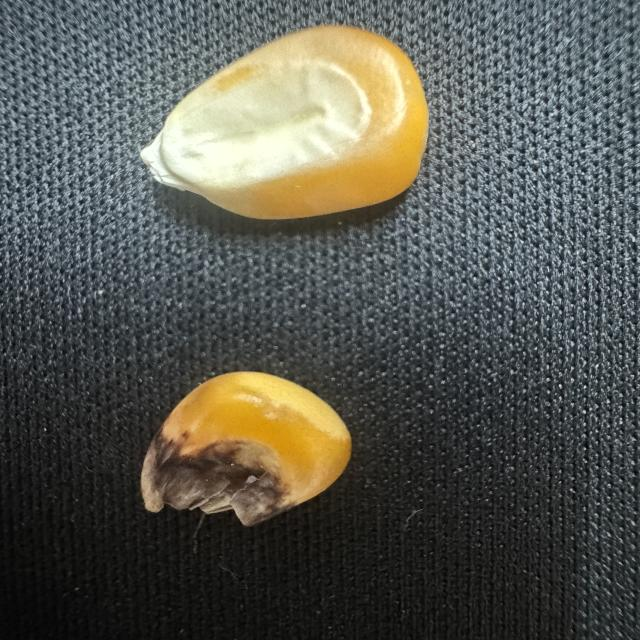Bad-Seed: (136, 367, 358, 538)
Good-Seed: (140, 20, 435, 226)
